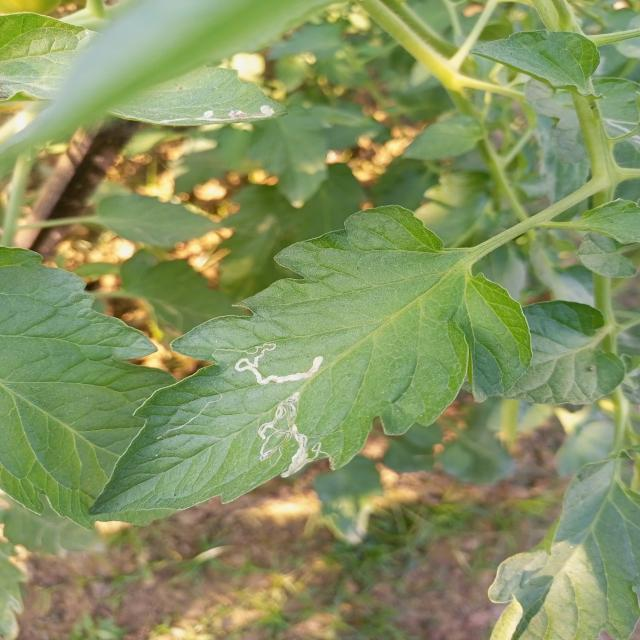Tuta absoluta: (240, 391, 337, 488), (232, 336, 324, 398)
